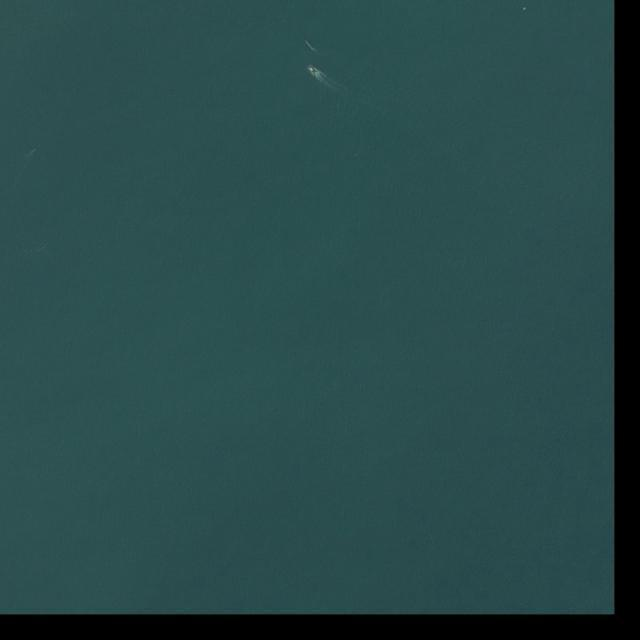ship: (304, 39, 315, 51), (307, 64, 318, 75)
